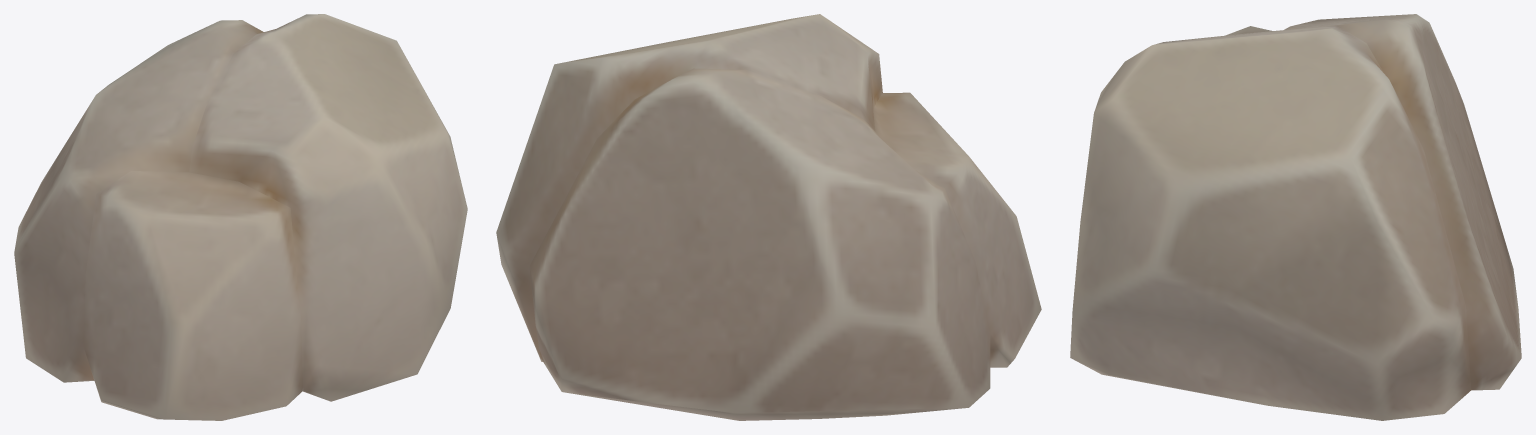
The model's file is rock1.gltf.
The picture shows the model from 3 angles, left to right: view 1: azimuth 30°, elevation 25°; view 2: azimuth 150°, elevation 25°; view 3: azimuth 270°, elevation 25°; orthographic projection. The views are drawn at different scales.
Parts seen in each view (by area): view 1: Rock3; view 2: Rock3; view 3: Rock3.
Part boxes in pixels (x1,y1,x2,y2): Rock3: [14, 14, 467, 420]; Rock3: [496, 14, 1041, 420]; Rock3: [1070, 14, 1521, 420].
Bounding box in the file's own units: 0.4674 × 0.3245 × 0.403.
Materials: 1 (1 with a texture image).
